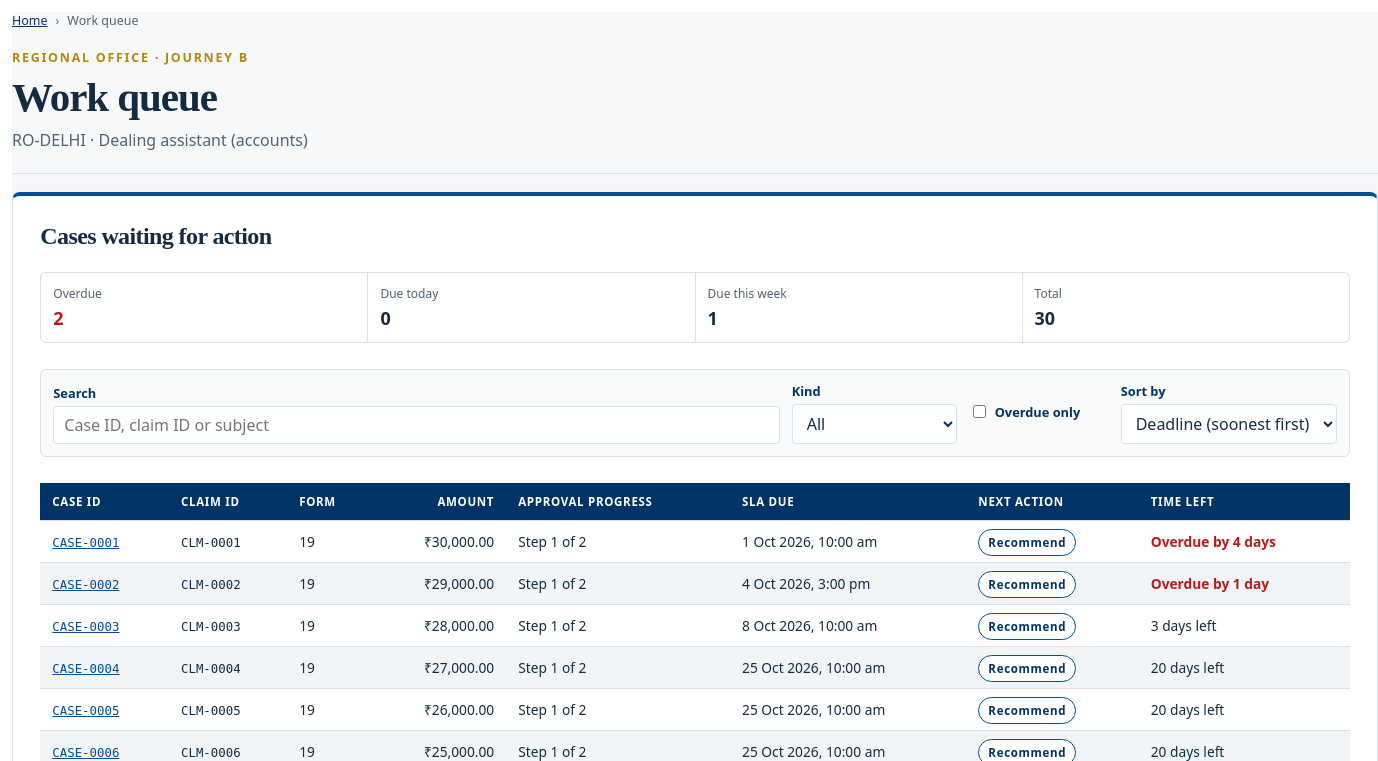
P2.28d WorkQueuePage UI integration › filters cases by text search
Expected: the text "CASE-0001" is shown, top-left (52, 536), bottom-right (119, 550)
Type "CLM-0012" into the search field labelled "Search" at (416, 425), box top-left (53, 406), bottom-right (780, 444)
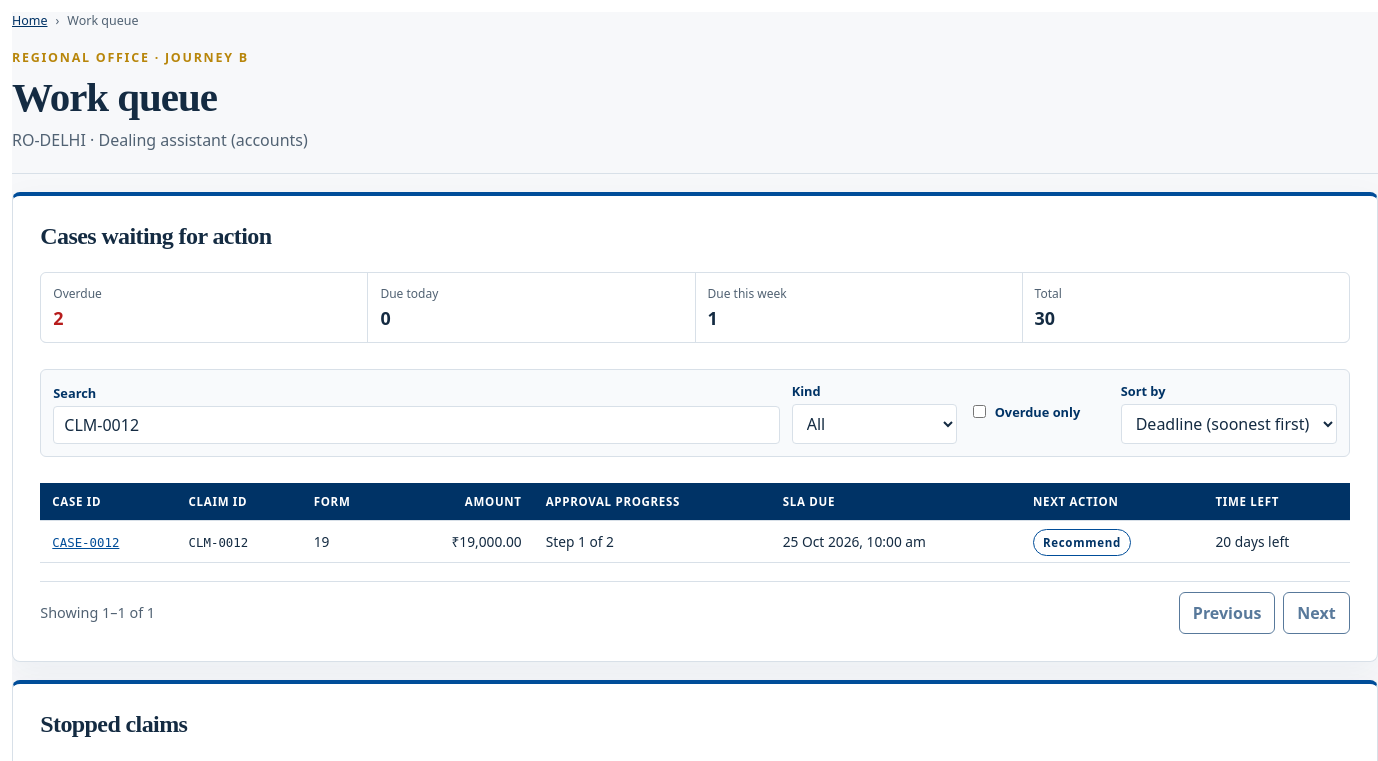
Expected: the text "CASE-0012" is shown, top-left (52, 536), bottom-right (119, 550)
Now the link "CASE-0001" is gone
